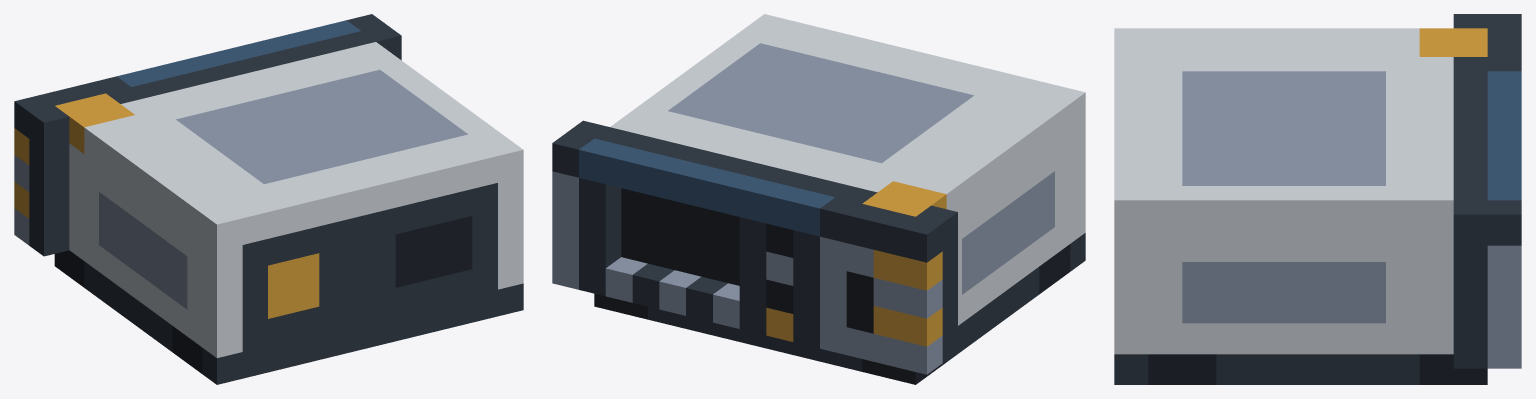
The model's file is chilled_mirror_hygrometer.glb.
3 renders of one model, left to right at view 1: azimuth 30°, elevation 25°; view 2: azimuth 150°, elevation 25°; view 3: azimuth 270°, elevation 25°, orthographic. The views are drawn at different scales.
Parts seen in each view (by area): view 1: prop; view 2: prop; view 3: prop.
Boxes of the visible parts, x1,y1,x2,y2 form: prop: [14, 14, 523, 384]; prop: [552, 14, 1085, 384]; prop: [1114, 14, 1521, 384].
Bounding box in the file's own units: 14 × 6 × 12.
